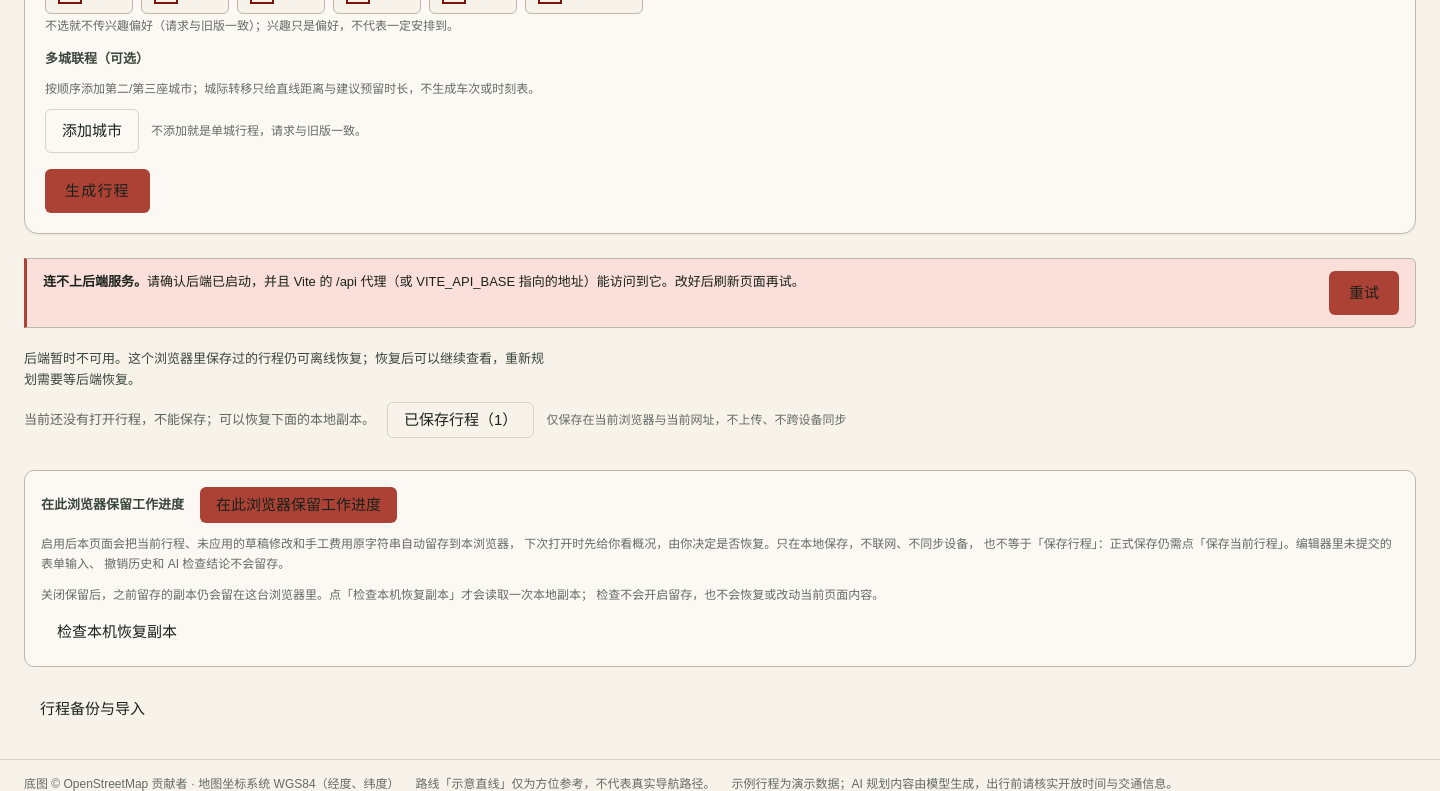
Scenario: 本地保存行程 › 后端不可用时仍可打开并恢复本地保存的行程
The width and height of the screenshot is (1440, 791).
(page scrolled)
Expected: the text "连不上后端服务。" is shown, [43,271,147,292]
Expected: the button "保存当前行程" is not shown
Click the button "已保存行程（1）" at (461, 420), box [387,402,534,438]
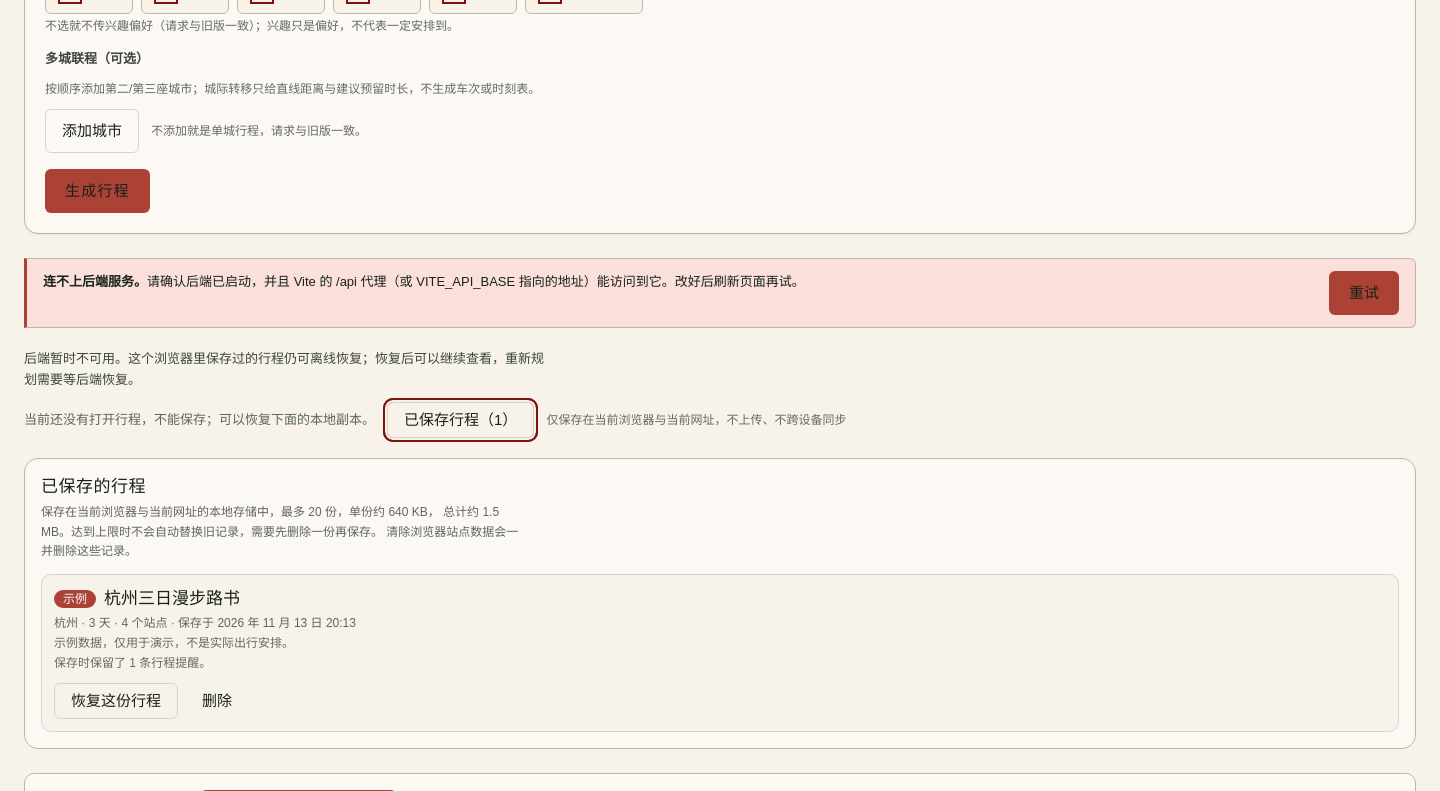
Click the button with aria-label "恢复保存的行程《杭州三日漫步路书》" at (116, 701), box [54,683,178,719]
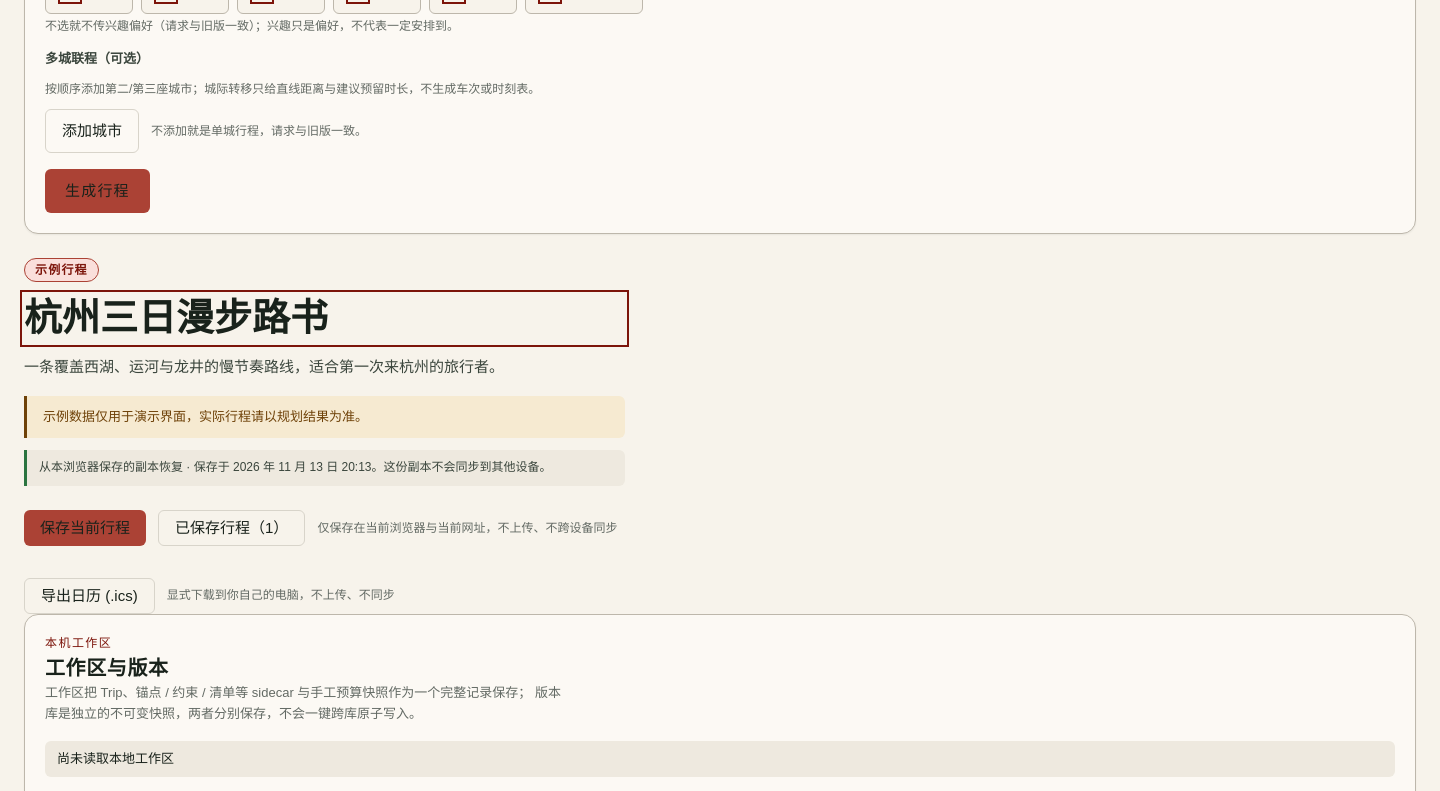
Result: the heading "杭州三日漫步路书" is shown at [24,297,328,339]
Result: the text "连不上后端服务" is gone
Result: the text "从本浏览器保存的副本恢复 · 保存于 2026 年 11 月 13 日 20:13。这份副本不会同步到其他设备。" is shown at [24,450,625,486]
